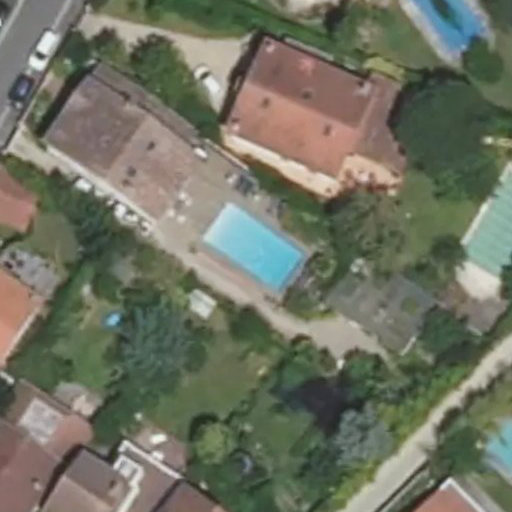pool: (204, 234, 307, 248)
